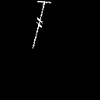treble_crochet: (33, 1, 50, 45)
